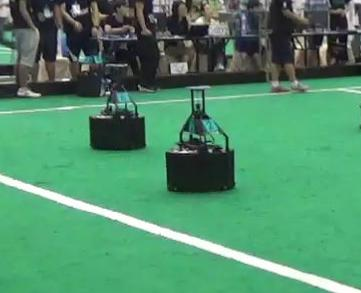robot: (163, 85, 237, 192), (88, 60, 148, 151)
